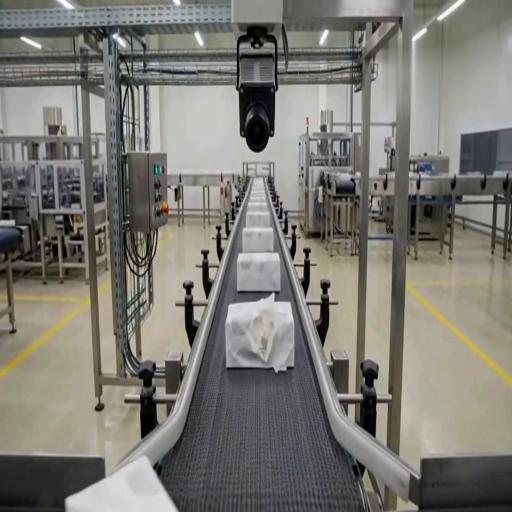defective: (224, 294, 296, 370)
good: (66, 454, 180, 509), (236, 252, 282, 294), (241, 226, 275, 254), (245, 177, 270, 202), (244, 210, 272, 229), (246, 200, 270, 214)
